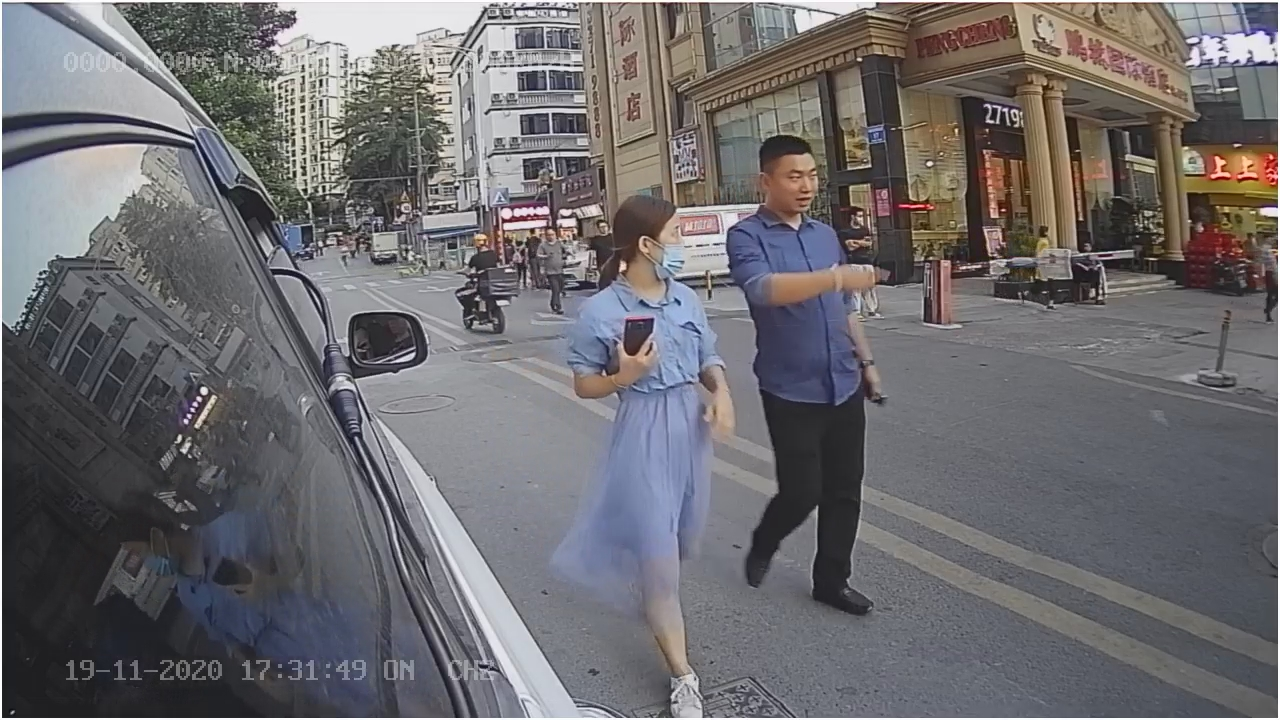person: (740, 149, 873, 565), (574, 192, 725, 550)
